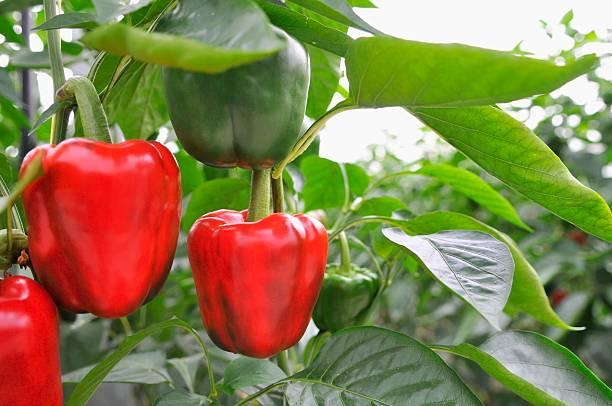Capsicum: (20, 138, 181, 318), (154, 0, 310, 168), (189, 210, 327, 357), (313, 269, 378, 330)
